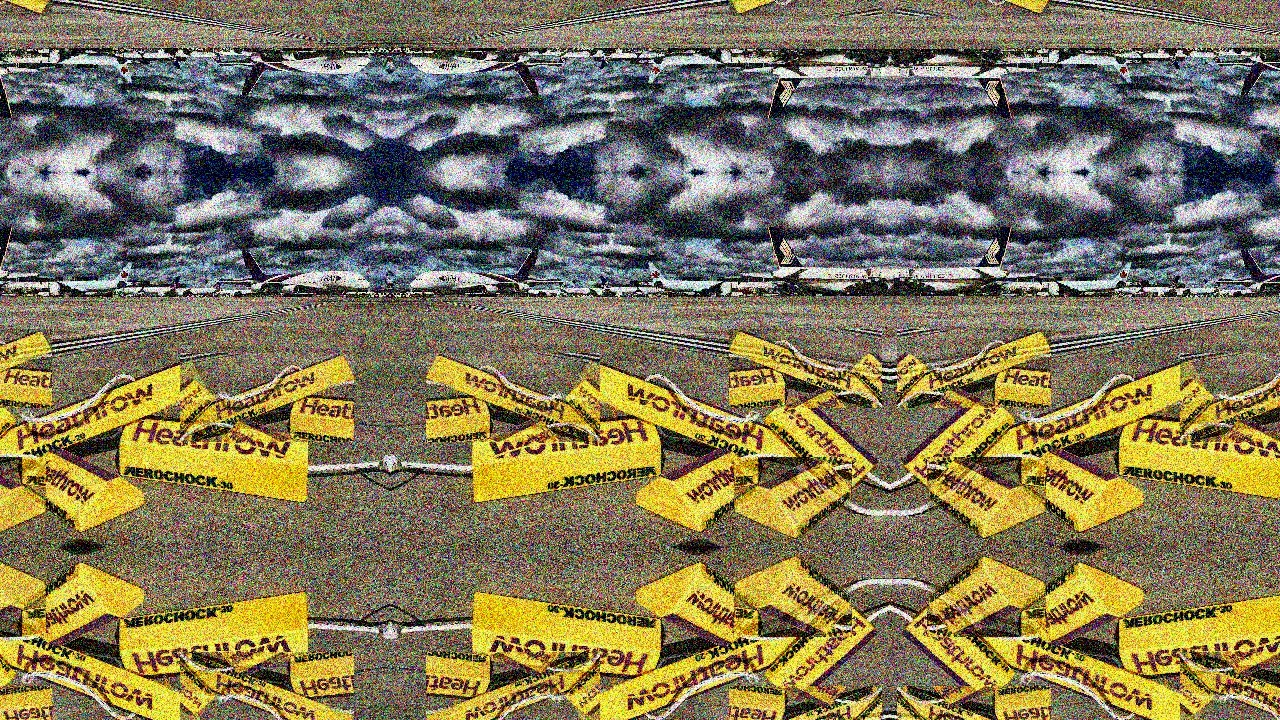chock: (573, 357, 812, 481), (968, 357, 1207, 481), (0, 357, 207, 481), (573, 614, 812, 720), (968, 614, 1207, 720), (0, 614, 207, 720), (117, 410, 309, 503), (471, 410, 663, 503), (117, 592, 309, 685), (471, 592, 663, 685), (180, 353, 354, 442), (426, 353, 600, 442), (1117, 410, 1280, 503), (1117, 592, 1280, 685), (764, 390, 881, 497), (899, 390, 1016, 497), (764, 598, 881, 705), (899, 598, 1016, 705), (729, 329, 882, 408), (898, 329, 1051, 408), (180, 653, 354, 720), (426, 653, 600, 720), (21, 448, 145, 534), (635, 448, 759, 534), (1021, 448, 1145, 534), (21, 561, 145, 647), (635, 561, 759, 647), (1021, 561, 1145, 647), (734, 457, 852, 540), (928, 457, 1046, 540), (734, 555, 852, 637), (928, 555, 1046, 637), (1180, 353, 1280, 442), (1180, 653, 1280, 720), (729, 686, 882, 720), (898, 686, 1051, 720), (0, 329, 51, 408), (0, 457, 46, 540), (0, 555, 46, 637), (729, 0, 882, 16), (898, 0, 1051, 16), (0, 686, 51, 720), (0, 390, 16, 497), (0, 598, 16, 705), (0, 0, 51, 16)
